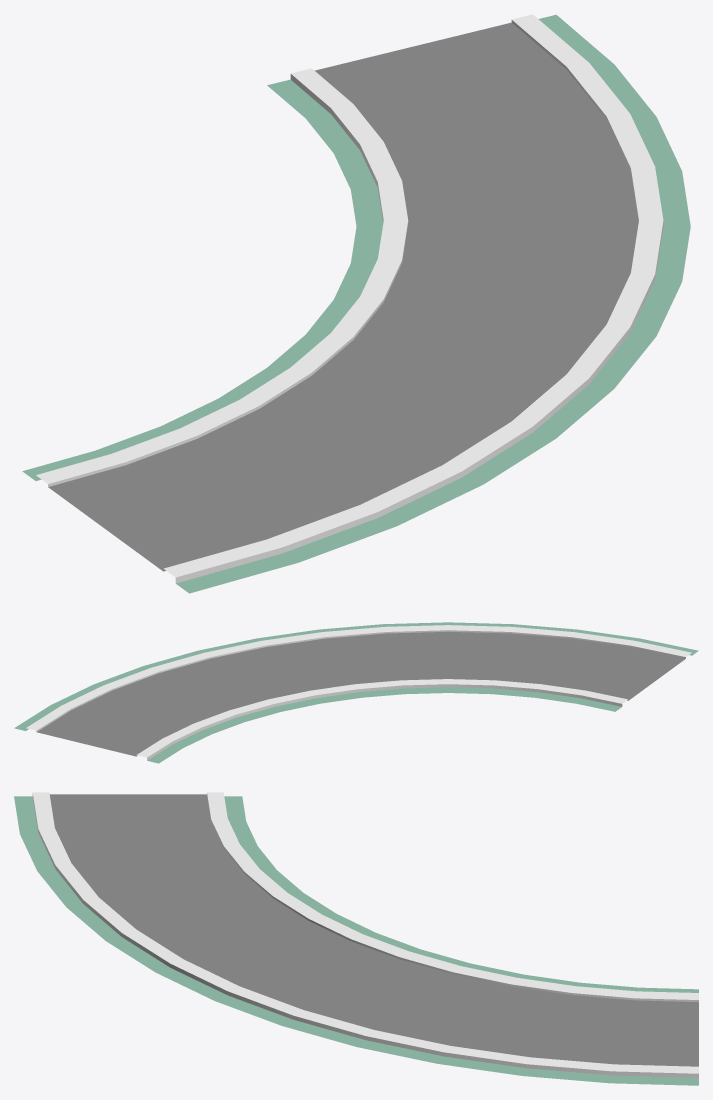
Rendered from roadCornerLarger.gltf.
The picture shows the model from 3 angles, top to bottom: view 1: azimuth 30°, elevation 25°; view 2: azimuth 150°, elevation 25°; view 3: azimuth 270°, elevation 25°; orthographic projection. The views are drawn at different scales.
Visible parts, largest first — view 1: roadCornerLarger; view 2: roadCornerLarger; view 3: roadCornerLarger.
Boxes of the visible parts, x1,y1,x2,y2 form: roadCornerLarger: (22, 14, 690, 593); roadCornerLarger: (14, 622, 698, 763); roadCornerLarger: (14, 792, 698, 1085).
Bounding box in the file's own units: 30 × 0.2 × 30.
